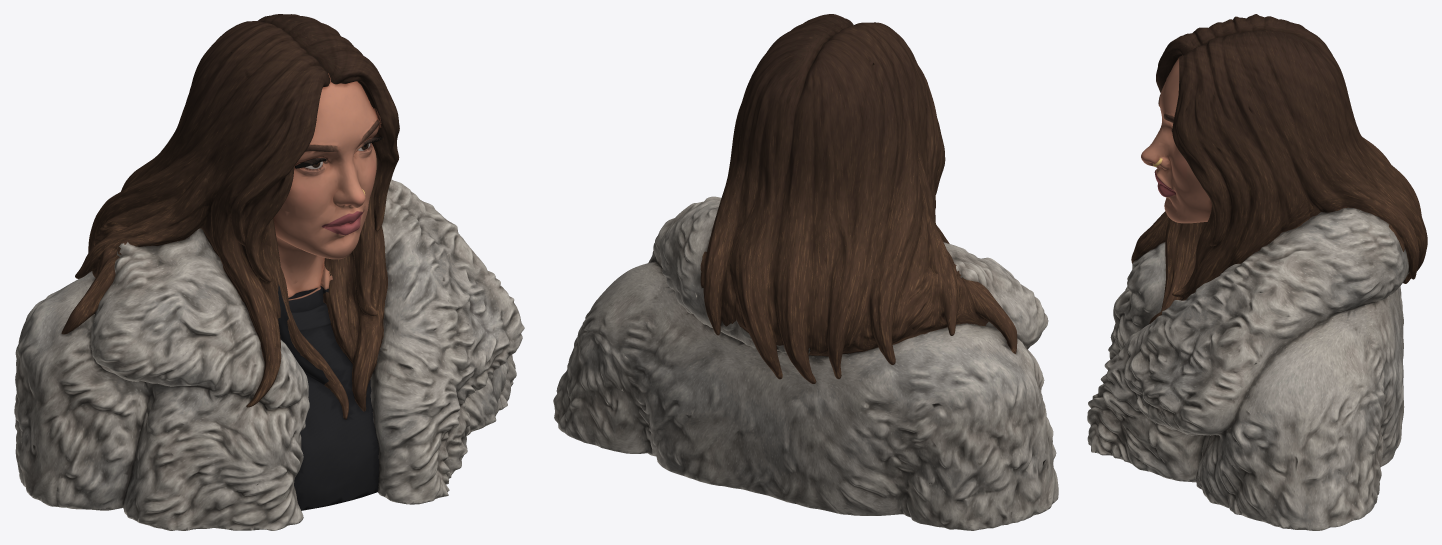
Rendered from statue_colored.glb.
The picture shows the model from 3 angles, left to right: view 1: azimuth 30°, elevation 25°; view 2: azimuth 150°, elevation 25°; view 3: azimuth 270°, elevation 25°; orthographic projection. The views are drawn at different scales.
Parts seen in each view (by area): view 1: Statue_Paris; view 2: Statue_Paris; view 3: Statue_Paris.
Part boxes in pixels (left/top/right/bottom): Statue_Paris: left=14, top=14, right=524, bottom=530; Statue_Paris: left=553, top=14, right=1058, bottom=530; Statue_Paris: left=1087, top=14, right=1427, bottom=530.
Size of the model in its own units: 0.178 by 0.1476 by 0.1158.
8 materials, 6 textured.
